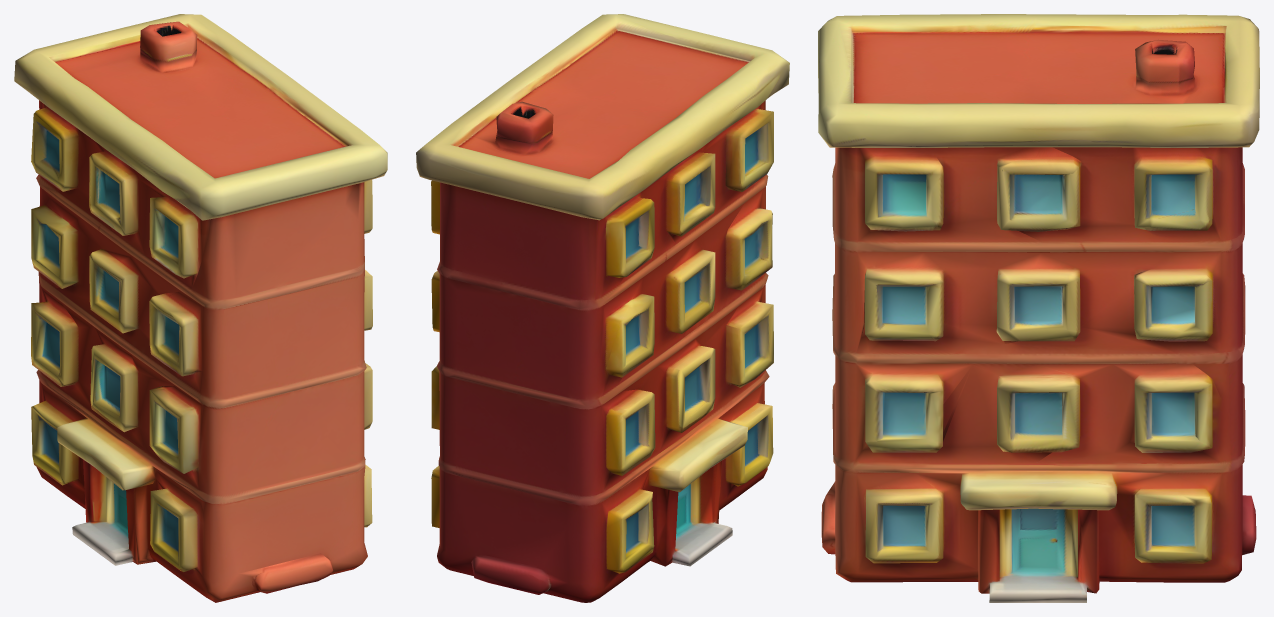
The model's file is building_apartment_coral.glb.
The picture shows the model from 3 angles, left to right: view 1: azimuth 30°, elevation 25°; view 2: azimuth 150°, elevation 25°; view 3: azimuth 270°, elevation 25°; orthographic projection. The views are drawn at different scales.
Visible parts, largest first — view 1: tripo_node_a1409608-7e61-435c-8064-7b65ea5ff274; view 2: tripo_node_a1409608-7e61-435c-8064-7b65ea5ff274; view 3: tripo_node_a1409608-7e61-435c-8064-7b65ea5ff274.
Boxes of the visible parts, x1,y1,x2,y2 form: tripo_node_a1409608-7e61-435c-8064-7b65ea5ff274: (14, 14, 387, 602); tripo_node_a1409608-7e61-435c-8064-7b65ea5ff274: (416, 14, 789, 602); tripo_node_a1409608-7e61-435c-8064-7b65ea5ff274: (818, 14, 1259, 602).
Size of the model in its own units: 0.5282 by 1 by 0.7884.
Materials: 1 (1 with a texture image).
